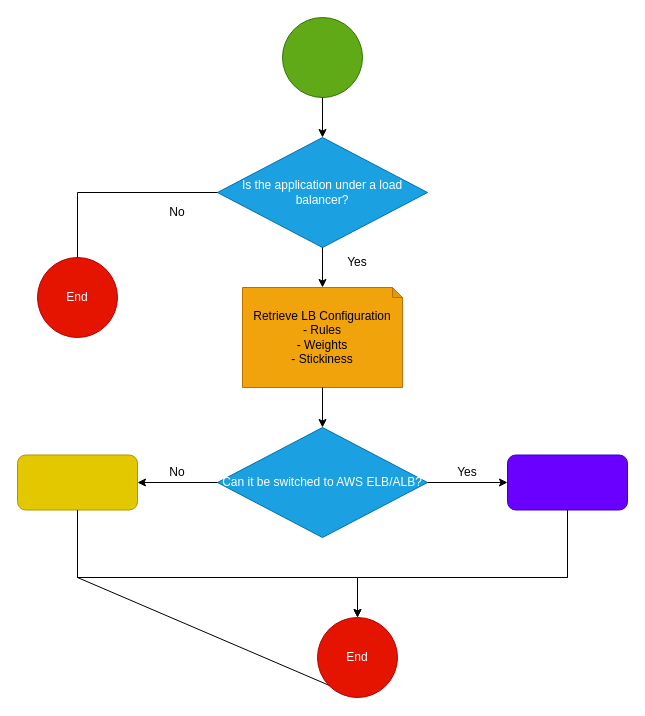
This 645x716 diagram has some shape labels left out. The centre of each missing label's shape, as x and y in pixels:
"Analysis & Refactor Process" goes at pixel 77 482.
"Proceed with AWS Managed Service" goes at pixel 567 482.
"Start" goes at pixel 322 57.
